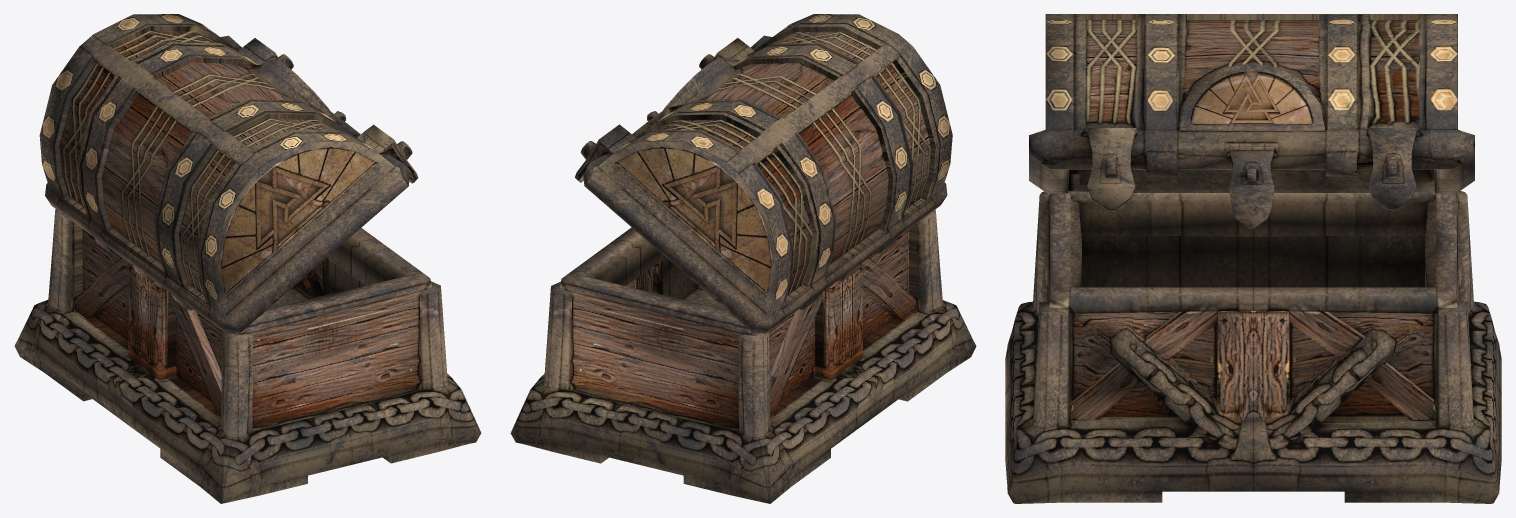
Rendered from SM_Fire_Rocky_TreasureChest2Open.FBX.
The picture shows the model from 3 angles, left to right: view 1: azimuth 30°, elevation 25°; view 2: azimuth 150°, elevation 25°; view 3: azimuth 270°, elevation 25°; orthographic projection. The views are drawn at different scales.
Parts seen in each view (by area): view 1: SM_Fire_Rocky_TreasureChest2Open; view 2: SM_Fire_Rocky_TreasureChest2Open; view 3: SM_Fire_Rocky_TreasureChest2Open.
Part boxes in pixels (x1,y1,x2,y2): SM_Fire_Rocky_TreasureChest2Open: (14, 14, 481, 503); SM_Fire_Rocky_TreasureChest2Open: (510, 14, 976, 503); SM_Fire_Rocky_TreasureChest2Open: (1005, 14, 1501, 503).
Bounding box in the file's own units: 107 × 145 × 126.
